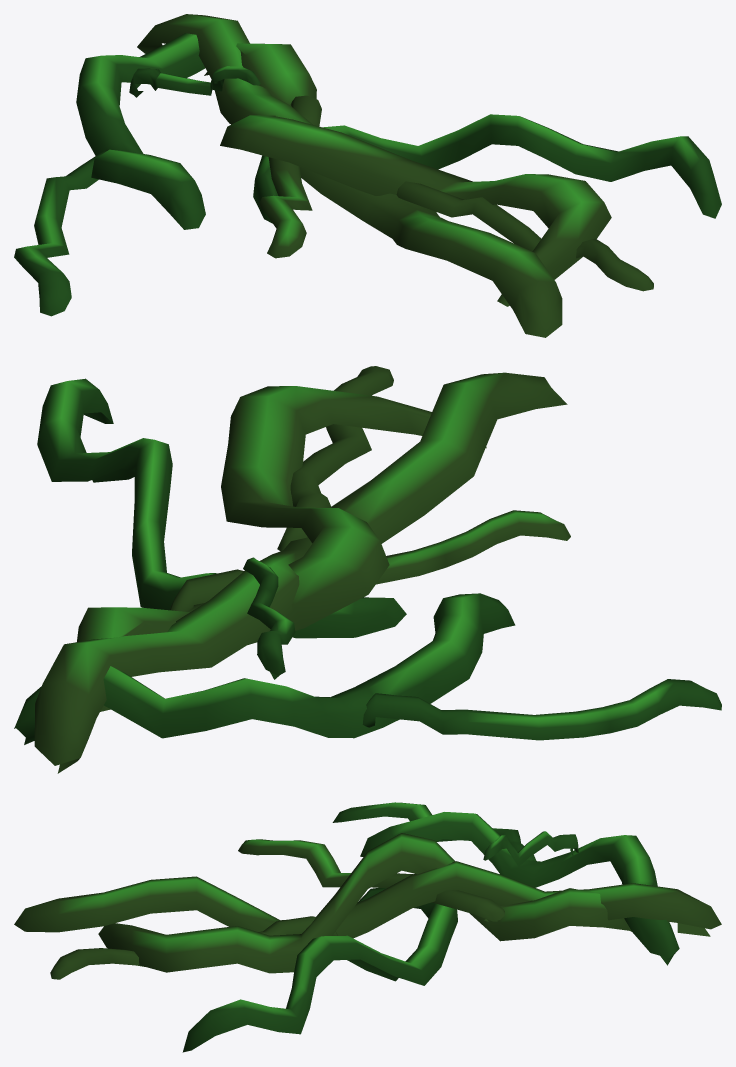
The model's file is Vine2.fbx.
3 views of the same model, one above another, from view 1: azimuth 30°, elevation 25°; view 2: azimuth 150°, elevation 25°; view 3: azimuth 270°, elevation 25° (orthographic). The views are drawn at different scales.
Visible parts, largest first — view 1: pCube160; view 2: pCube160; view 3: pCube160.
Part boxes in pixels (x1=…): pCube160: x1=14, y1=14, x2=721, y2=337; pCube160: x1=14, y1=366, x2=721, y2=773; pCube160: x1=14, y1=802, x2=721, y2=1052.
Bounding box in the file's own units: 122 × 22.46 × 142.
